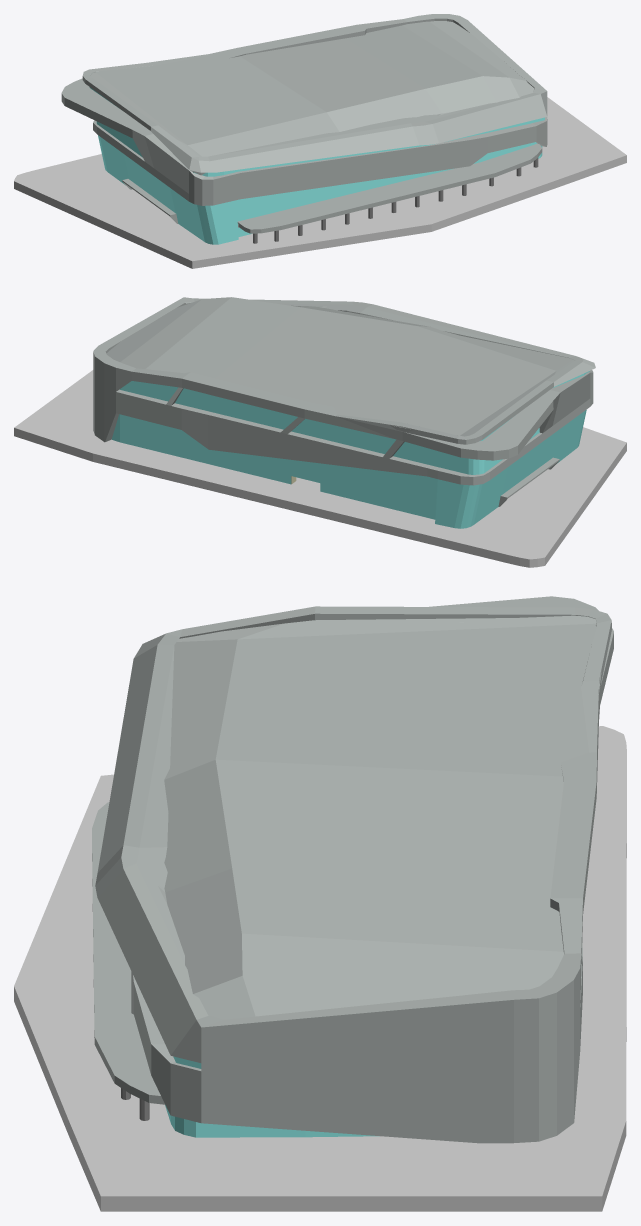
Rendered from gym1_1_3.gltf.
3 views of the same model, one above another, from view 1: azimuth 30°, elevation 25°; view 2: azimuth 150°, elevation 25°; view 3: azimuth 270°, elevation 25° (orthographic). The views are drawn at different scales.
Visible parts, largest first — view 1: roof_cover, roof, base, 1f_glass, 2f_floor, 2f_glass, pile, enter_roof; view 2: roof_cover, roof, base, 1f_glass, 2f_glass, enter_roof; view 3: roof_cover, roof, base, 2f_floor, 1f_glass.
Part boxes in pixels (left/top/right/bottom): roof_cover: left=91, top=21, right=534, bottom=156; roof: left=61, top=14, right=547, bottom=205; base: left=14, top=97, right=626, bottom=268; 1f_glass: left=98, top=135, right=542, bottom=244; 2f_floor: left=237, top=143, right=542, bottom=233; 2f_glass: left=89, top=87, right=544, bottom=176; pile: left=253, top=157, right=538, bottom=243; enter_roof: left=122, top=179, right=178, bottom=223; roof_cover: left=106, top=297, right=574, bottom=436; roof: left=93, top=297, right=595, bottom=485; base: left=14, top=370, right=626, bottom=567; 1f_glass: left=111, top=410, right=586, bottom=528; 2f_glass: left=119, top=371, right=589, bottom=474; enter_roof: left=498, top=457, right=559, bottom=506; roof_cover: left=158, top=615, right=601, bottom=1019; roof: left=95, top=596, right=613, bottom=1143; base: left=14, top=726, right=626, bottom=1211; 2f_floor: left=92, top=802, right=164, bottom=1104; 1f_glass: left=165, top=1105, right=379, bottom=1137.
Bounding box in the file's own units: 132 × 25.85 × 72.87.
